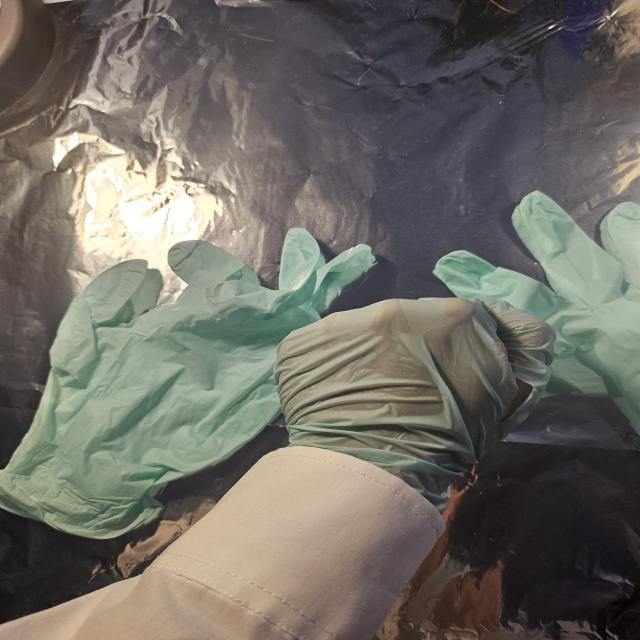gloves_damaged: (271, 291, 552, 515)
